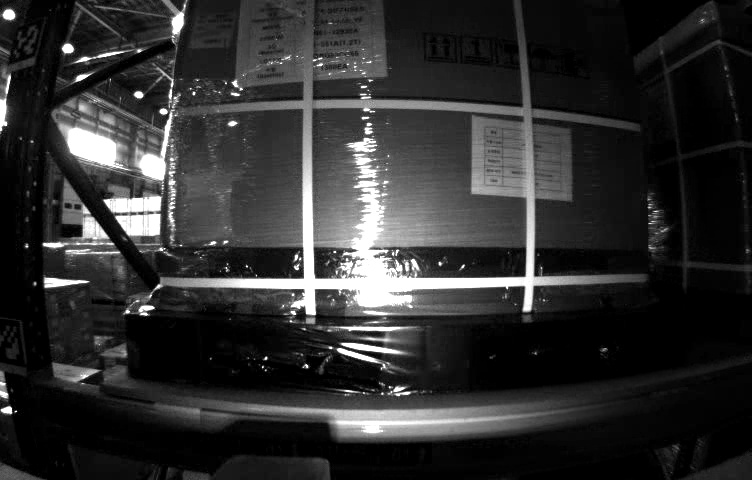True Barcode: (193, 11, 230, 47)
